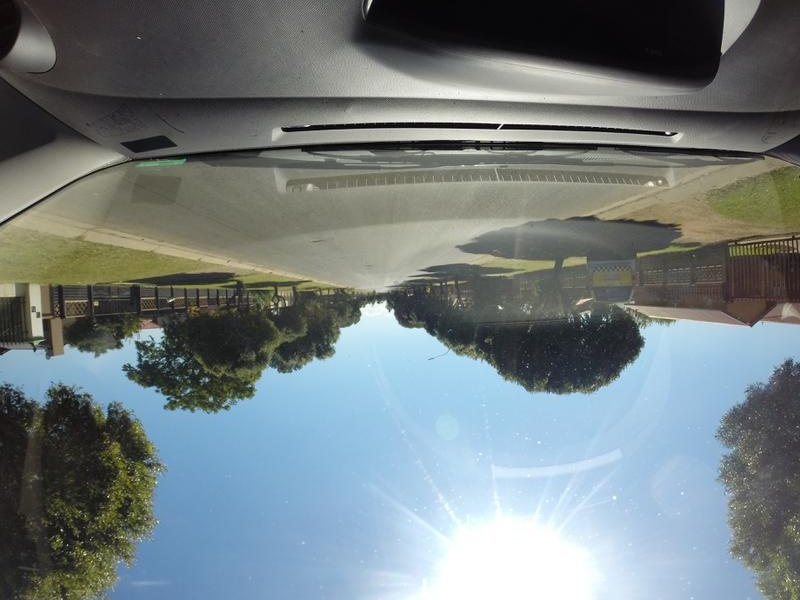pothole: (310, 232, 321, 249)
